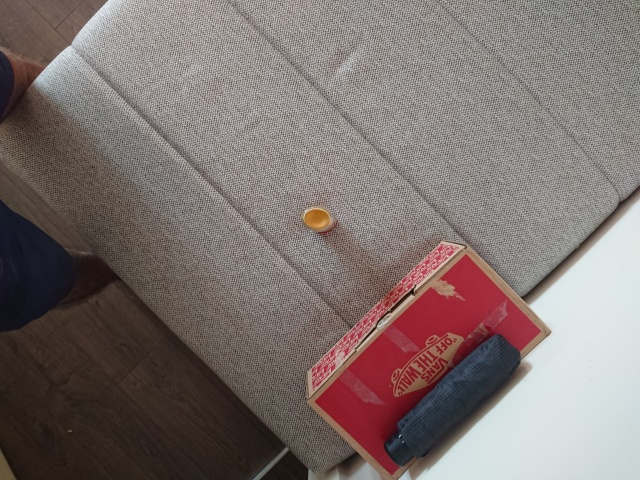Kotanyi Curry Spices Mix 70g: (300, 204, 338, 235)
